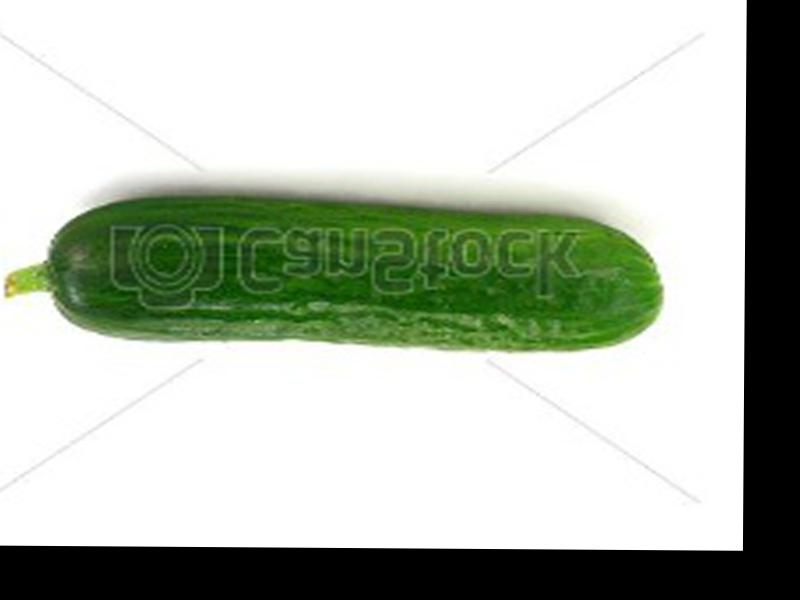Cucumber: (1, 193, 668, 351)
